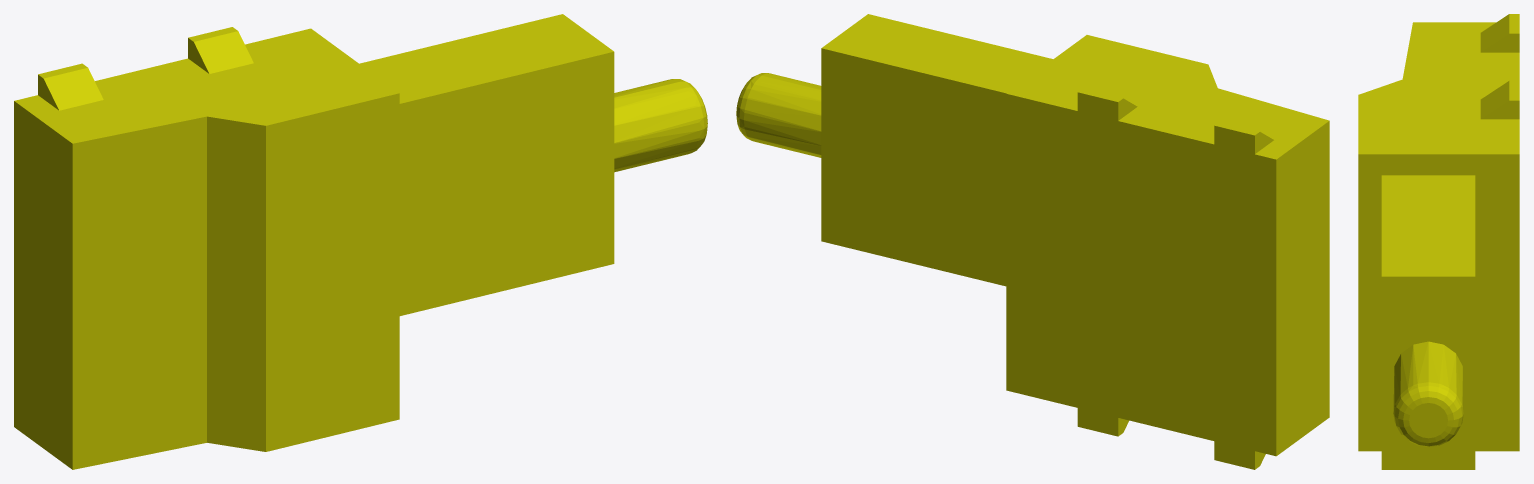
The model's file is autec_receiver.obj.
3 renders of one model, left to right at view 1: azimuth 30°, elevation 25°; view 2: azimuth 150°, elevation 25°; view 3: azimuth 270°, elevation 25°, orthographic. The views are drawn at different scales.
Size of the model in its own units: 0.255 by 0.142 by 0.062.
